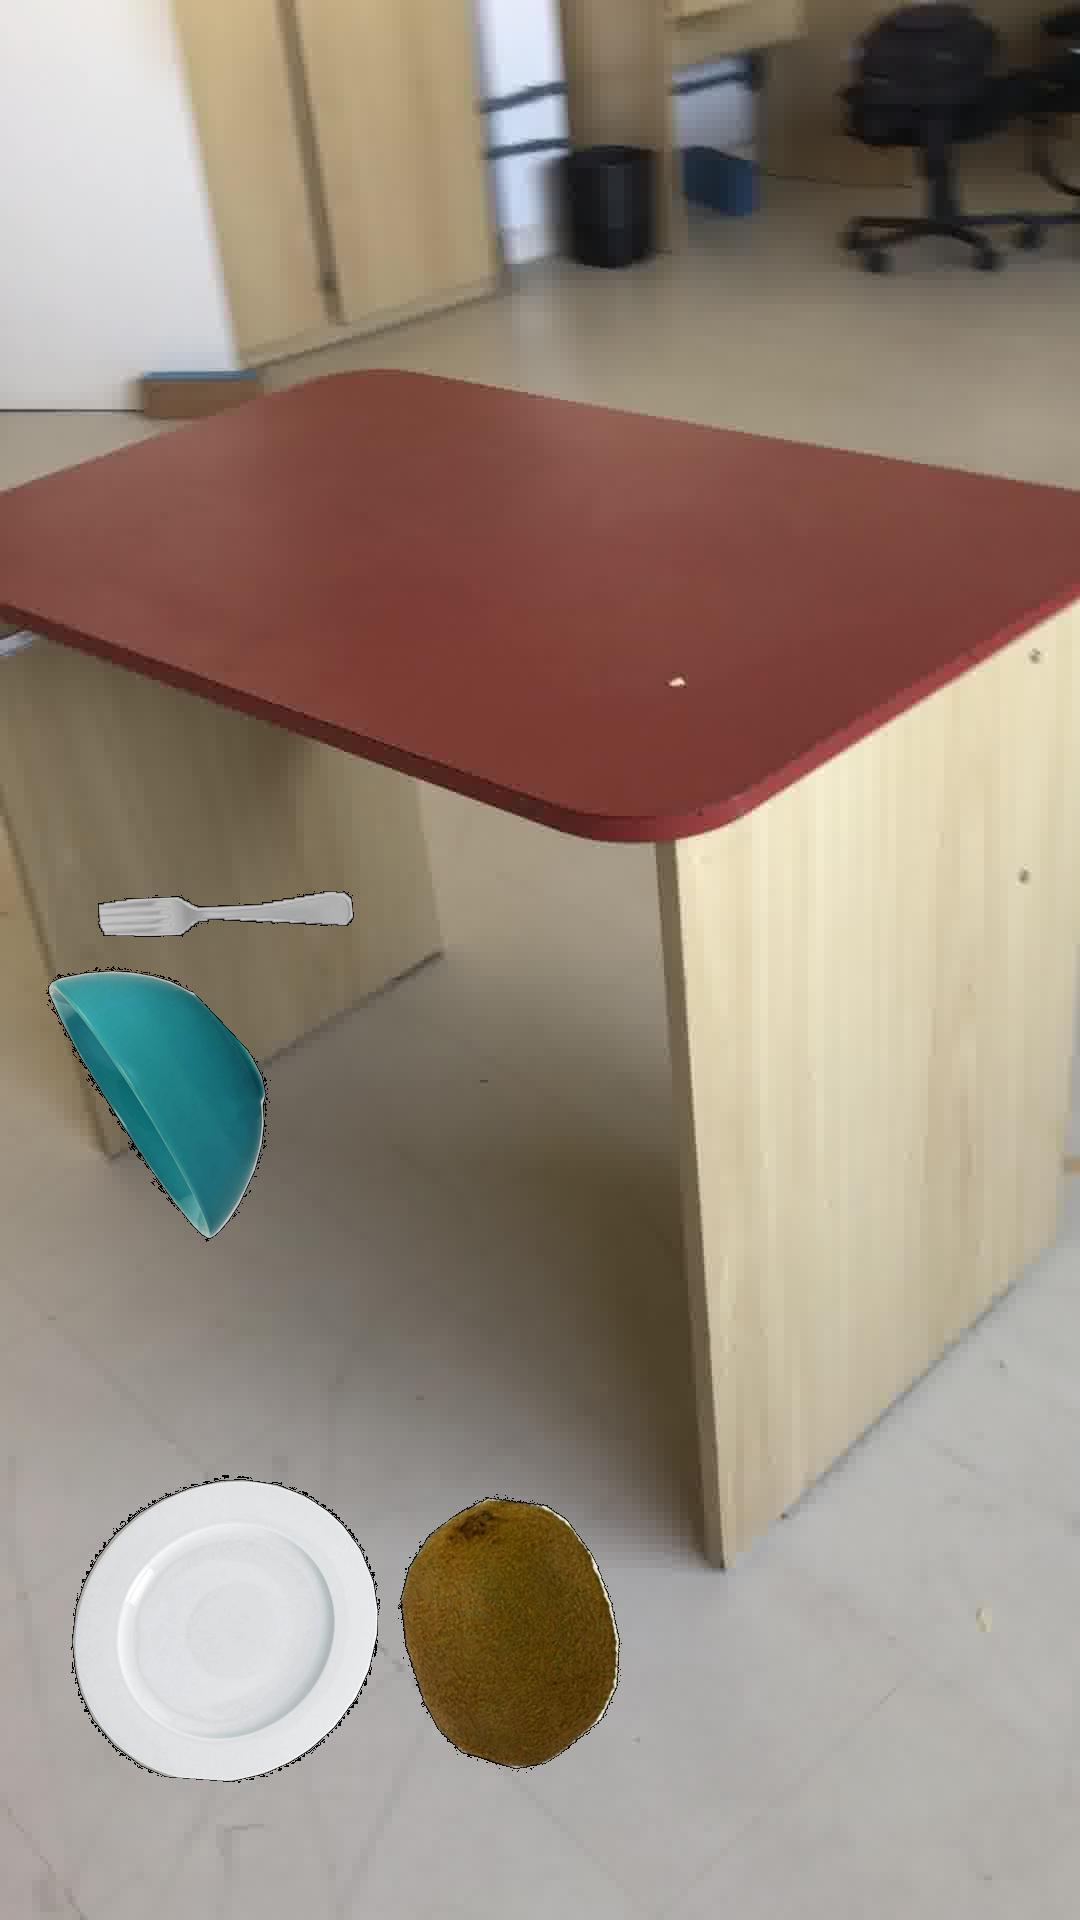bowl: (45, 967, 265, 1241)
fork: (96, 890, 352, 935)
kiwi: (397, 1495, 618, 1767)
plate: (70, 1473, 378, 1780)
